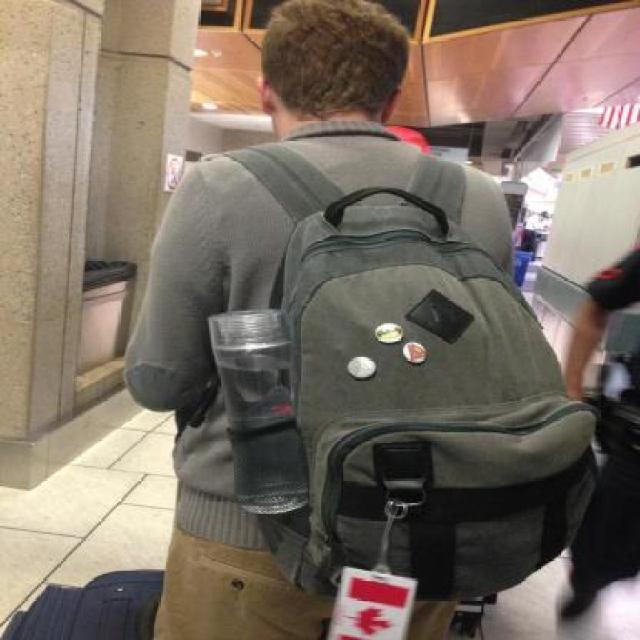backpack: (215, 142, 603, 606)
